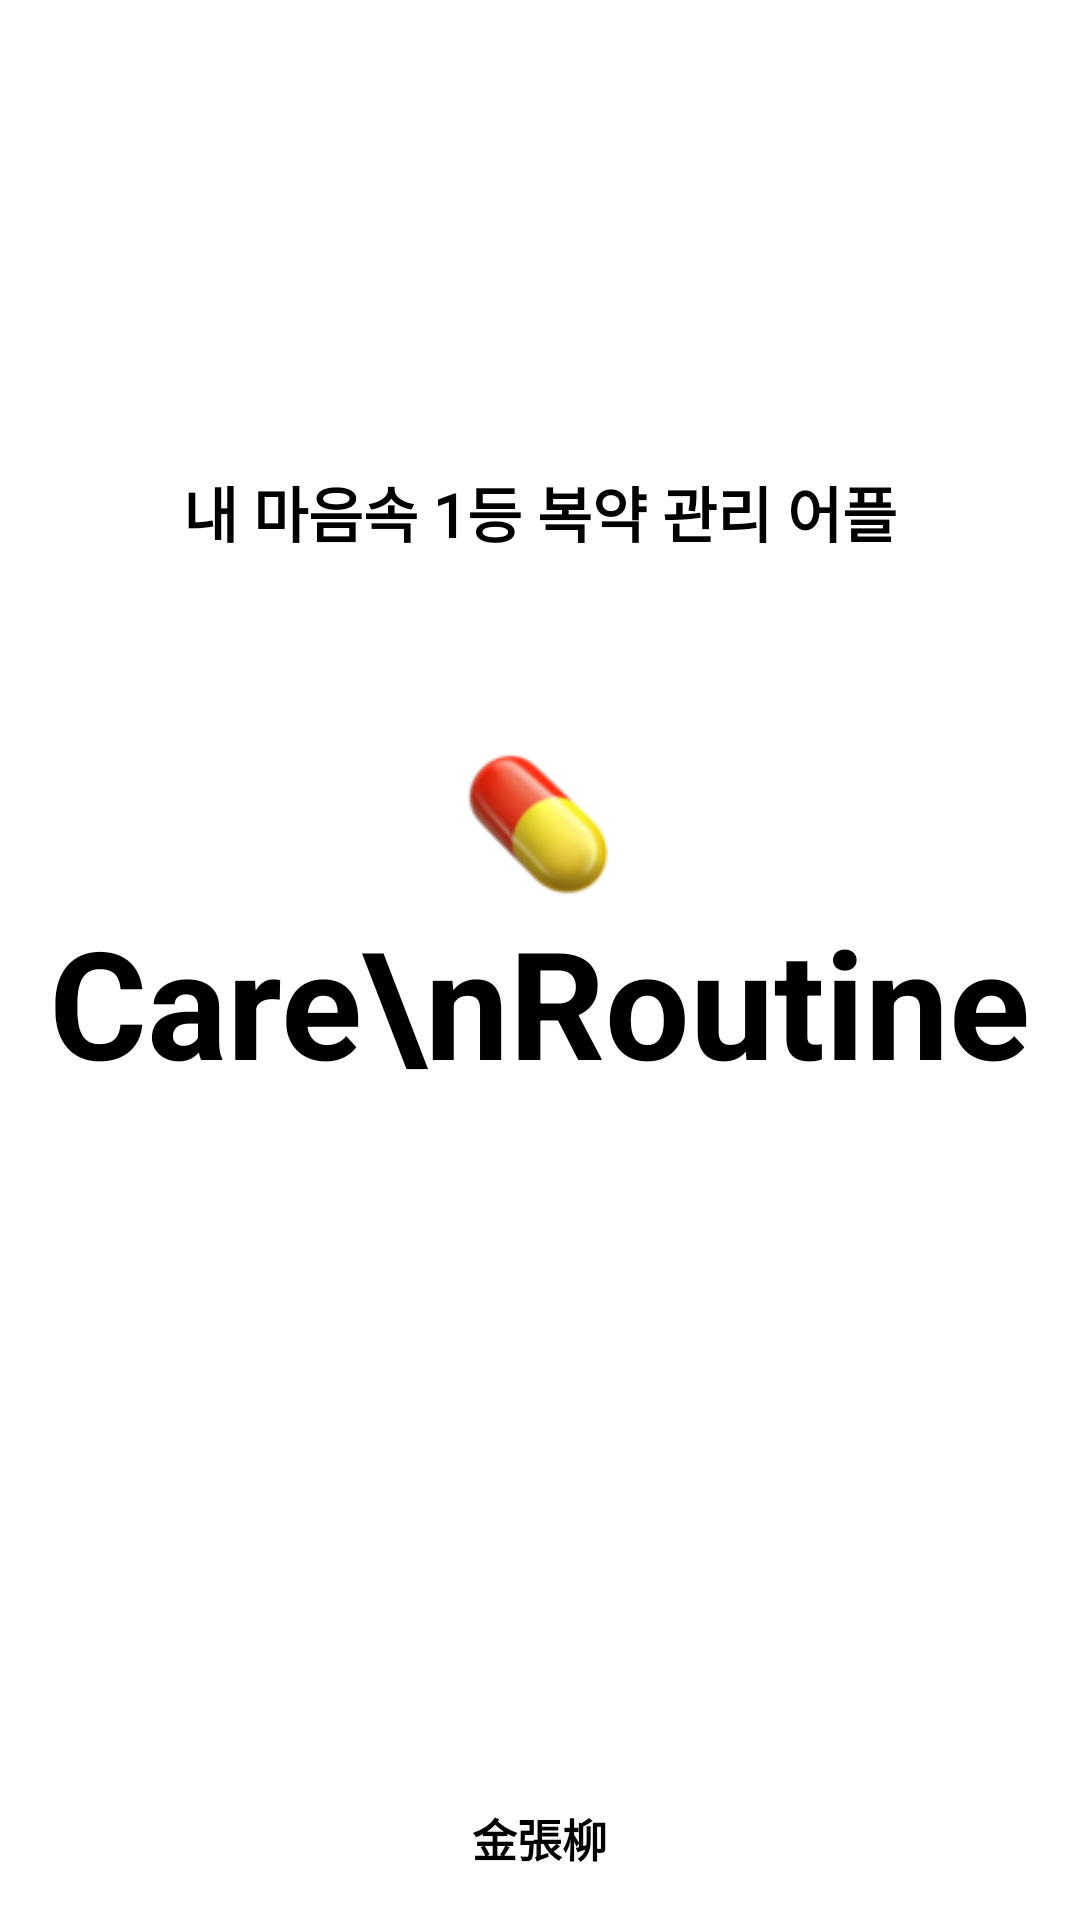

Locate icon controls on the screen. Image size 1080px×1920px, boxes as (x1, y1, x2, y2).
drug: (468, 755, 608, 894)
